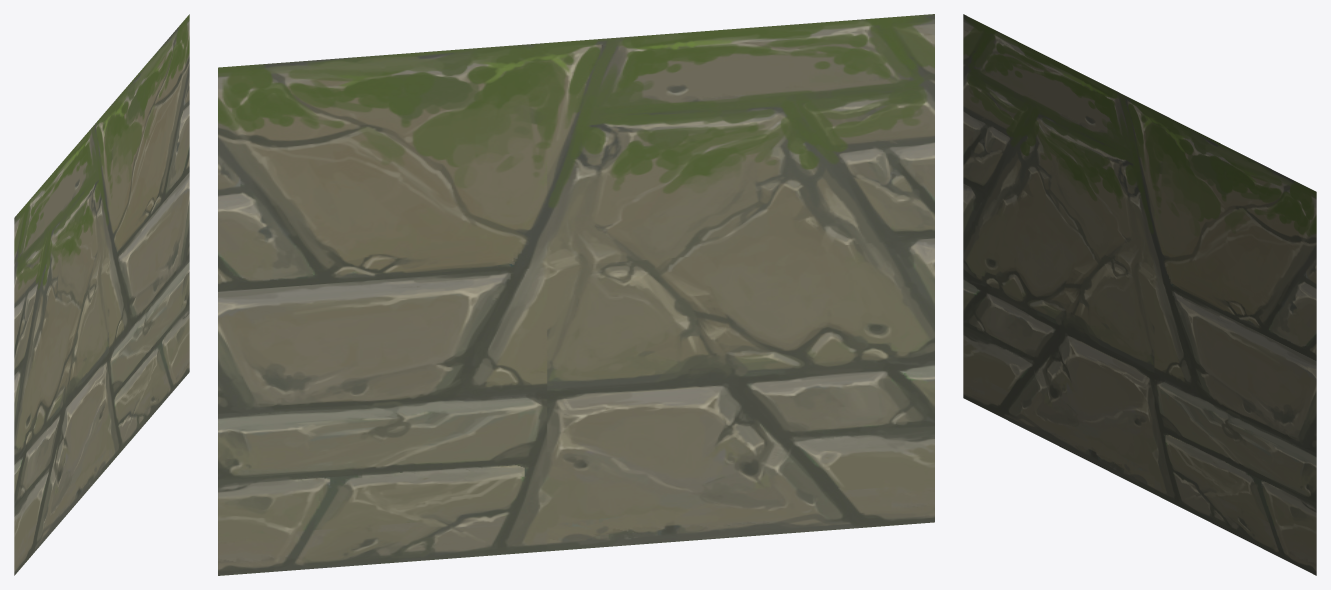
The model's file is longcurve_3.fbx.
3 renders of one model, left to right at view 1: azimuth 30°, elevation 25°; view 2: azimuth 150°, elevation 25°; view 3: azimuth 270°, elevation 25°, orthographic. The views are drawn at different scales.
Visible parts, largest first — view 1: round_tl_3_v2; view 2: round_tl_3_v2; view 3: round_tl_3_v2.
Part boxes in pixels (x1,y1,x2,y2): round_tl_3_v2: (14,14,189,575); round_tl_3_v2: (218,14,934,575); round_tl_3_v2: (963,14,1316,575).
Bounding box in the file's own units: 1.99 × 2 × 1.67.
